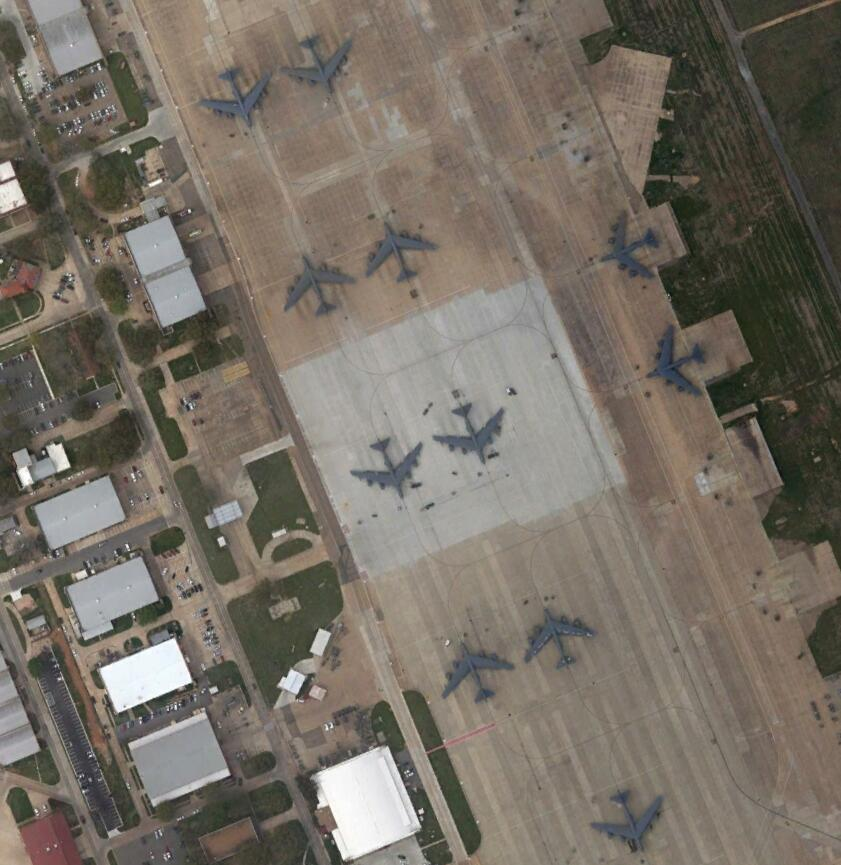A8: (519, 601, 603, 672), (278, 246, 358, 320), (346, 433, 425, 507), (590, 788, 671, 859), (361, 218, 440, 289), (589, 208, 664, 282), (437, 642, 517, 708), (434, 399, 509, 469), (645, 321, 709, 401), (281, 31, 358, 97), (200, 65, 274, 132)
